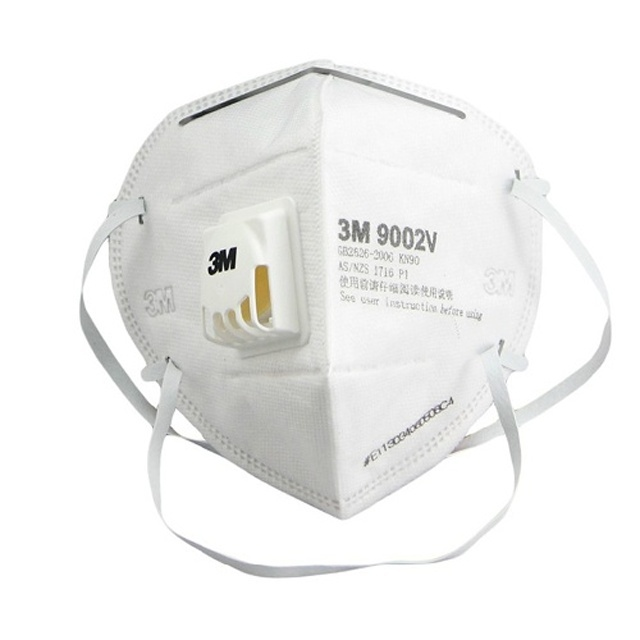mask: (78, 51, 613, 581)
